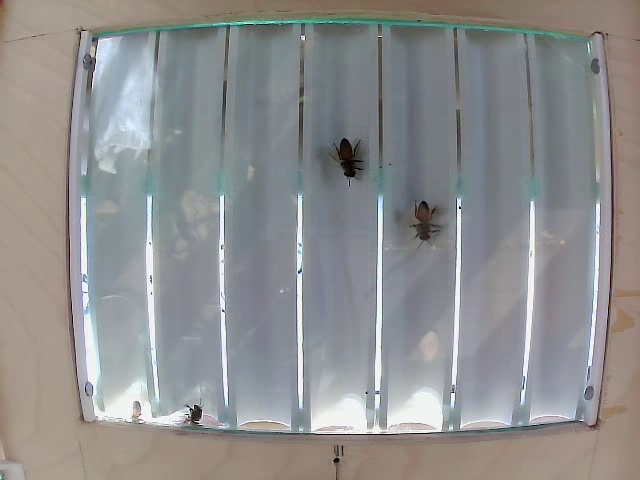bee: (325, 134, 379, 202), (400, 189, 446, 248), (171, 401, 219, 433)
